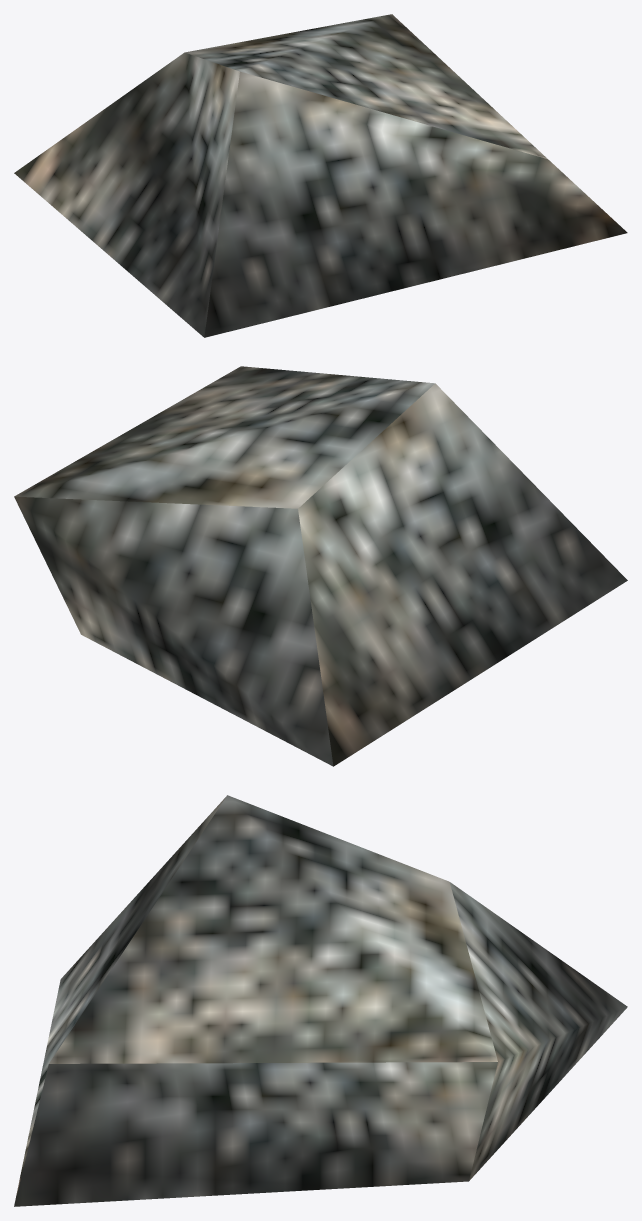
The model's file is rock.glb.
3 renders of one model, top to bottom at view 1: azimuth 30°, elevation 25°; view 2: azimuth 150°, elevation 25°; view 3: azimuth 270°, elevation 25°, orthographic. The views are drawn at different scales.
Visible parts, largest first — view 1: Rock; view 2: Rock; view 3: Rock.
Part boxes in pixels (x1,y1,x2,y2): Rock: [14, 14, 627, 337]; Rock: [14, 366, 627, 766]; Rock: [14, 795, 627, 1206].
Size of the model in its own units: 0.2021 by 0.0951 by 0.2079.
1 material, 1 textured.
